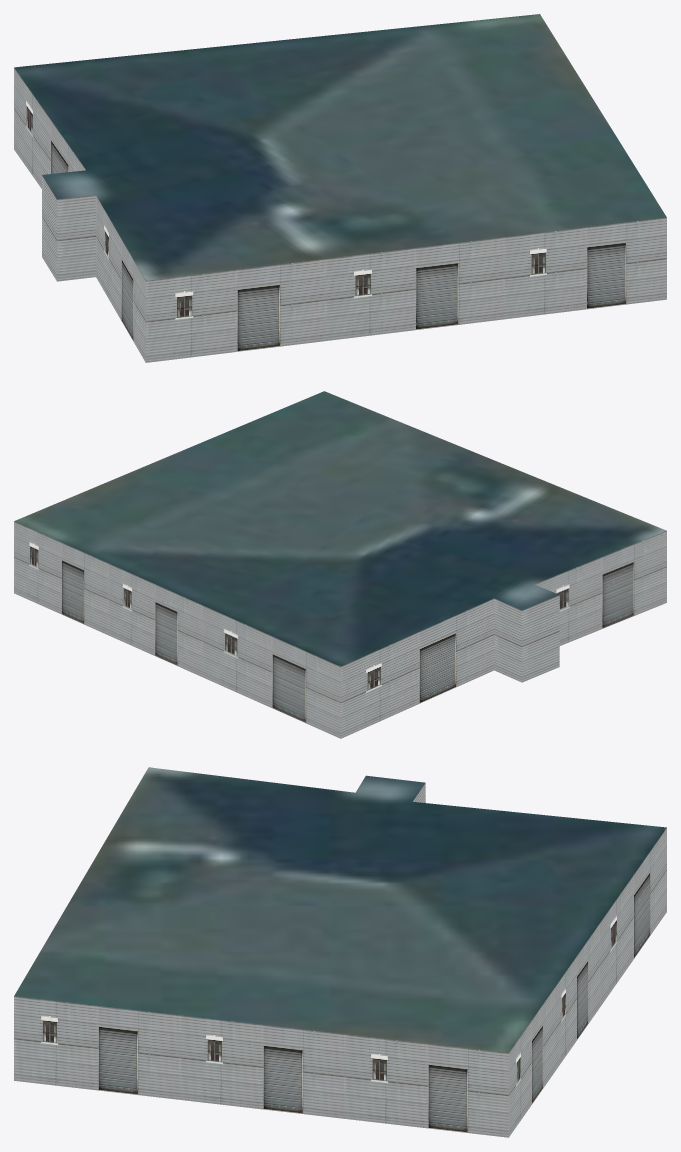
The model's file is T_1T92D4NXNN.dae.
3 renders of one model, top to bottom at view 1: azimuth 30°, elevation 25°; view 2: azimuth 150°, elevation 25°; view 3: azimuth 270°, elevation 25°, orthographic. The views are drawn at different scales.
Visible parts, largest first — view 1: SketchUp (×2); view 2: SketchUp (×2); view 3: SketchUp (×2).
Part boxes in pixels (left/top/right/bottom): SketchUp (×2): left=14, top=14, right=666, bottom=362; SketchUp (×2): left=14, top=391, right=666, bottom=738; SketchUp (×2): left=14, top=767, right=666, bottom=1137.
Size of what is drawn, in the model's own units: 943 by 910 by 130.
2 materials, 2 textured.
